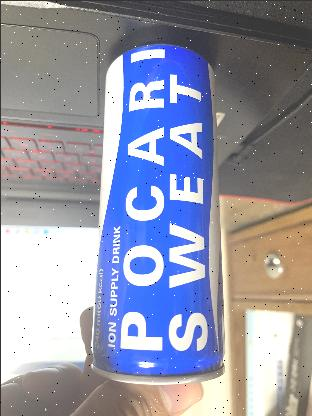Can: (88, 44, 220, 382)
